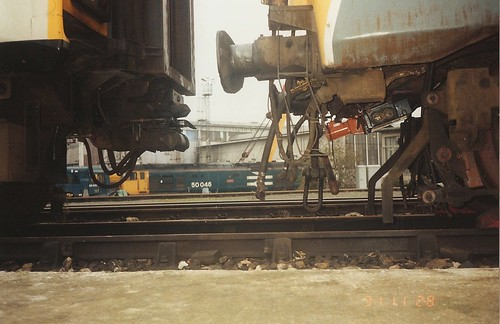train: (254, 1, 500, 207), (1, 1, 197, 178)
train track: (1, 174, 500, 324)
